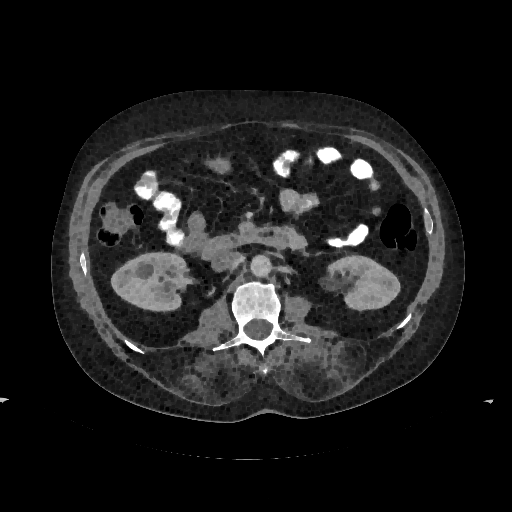Lesion: (132, 263, 156, 280)
